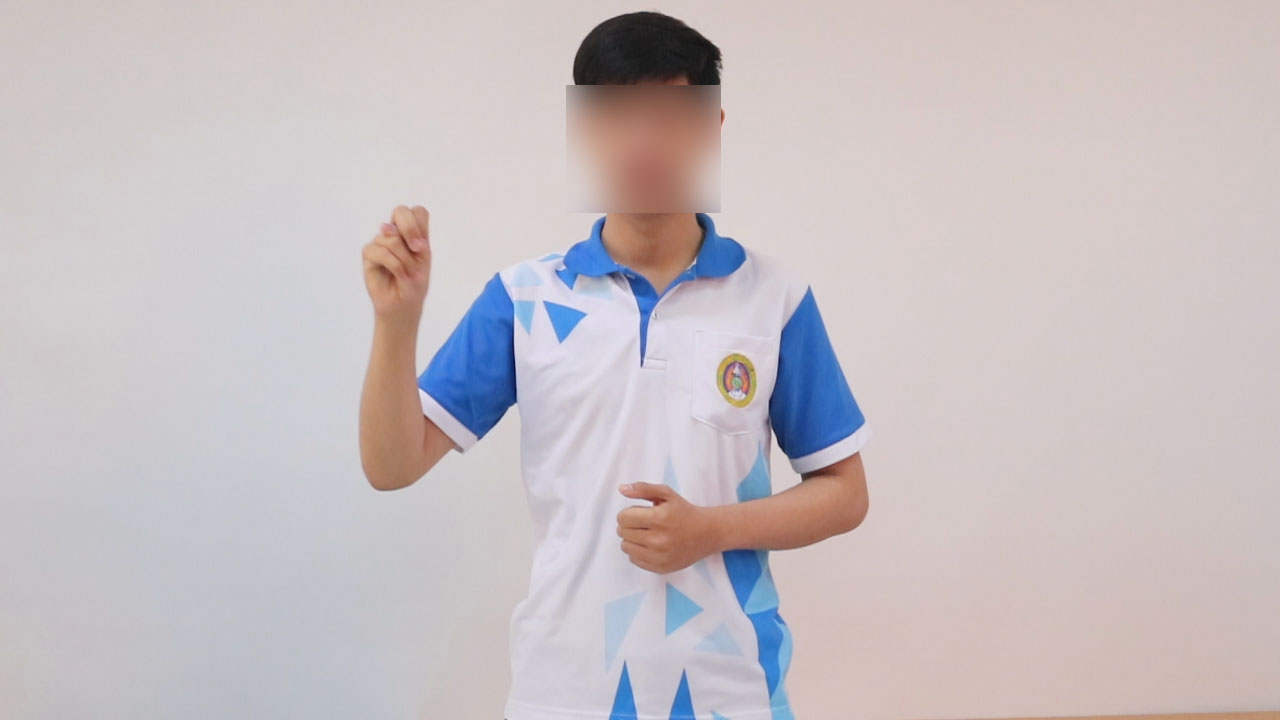nor: (352, 194, 449, 330)
